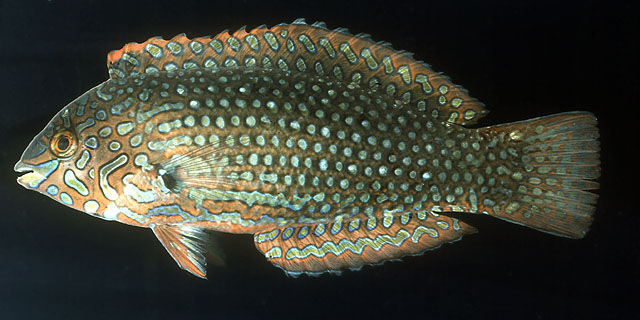fish: (14, 18, 602, 280)
